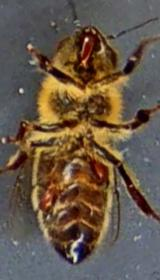varroa_mite: (20, 173, 70, 227), (82, 148, 120, 188)
